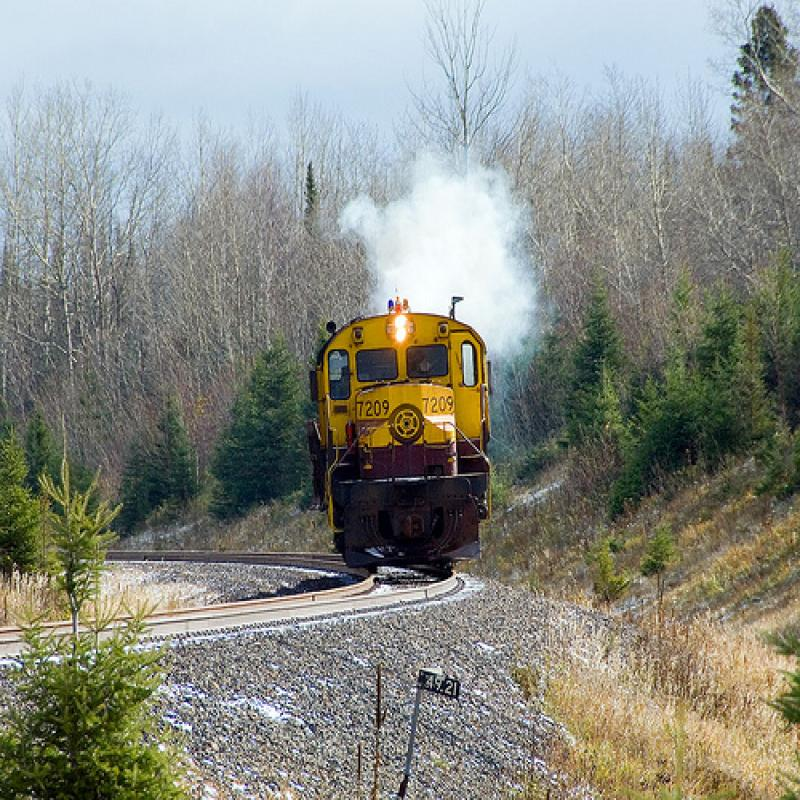train: (315, 314, 491, 580)
